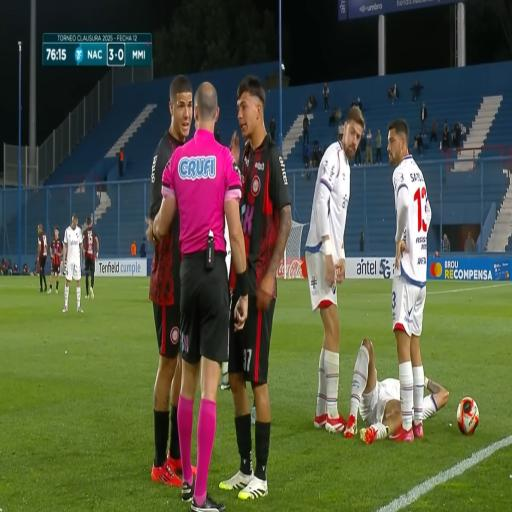Ball: (456, 397, 478, 438)
Player: (137, 87, 195, 486), (230, 82, 283, 493), (310, 117, 361, 442), (399, 125, 427, 441), (353, 341, 438, 433), (66, 215, 80, 307), (84, 217, 98, 298), (37, 224, 51, 297), (53, 229, 62, 288)
Referee: (178, 85, 227, 502)
